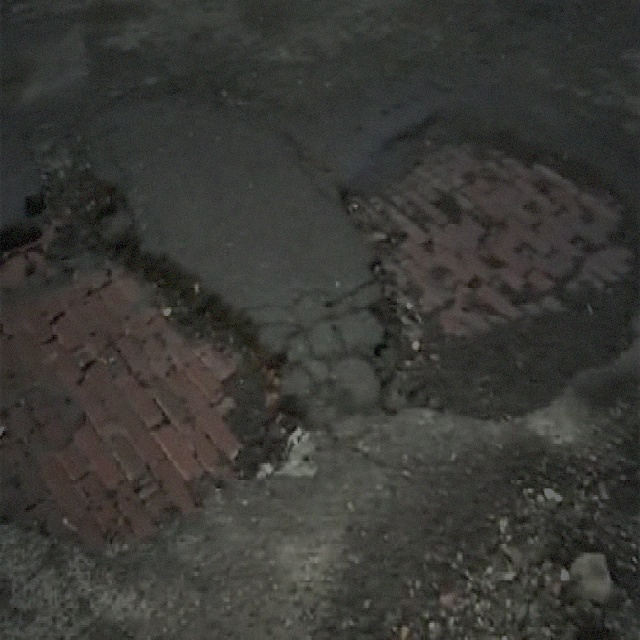pothole: (0, 164, 316, 544), (334, 120, 638, 420)
